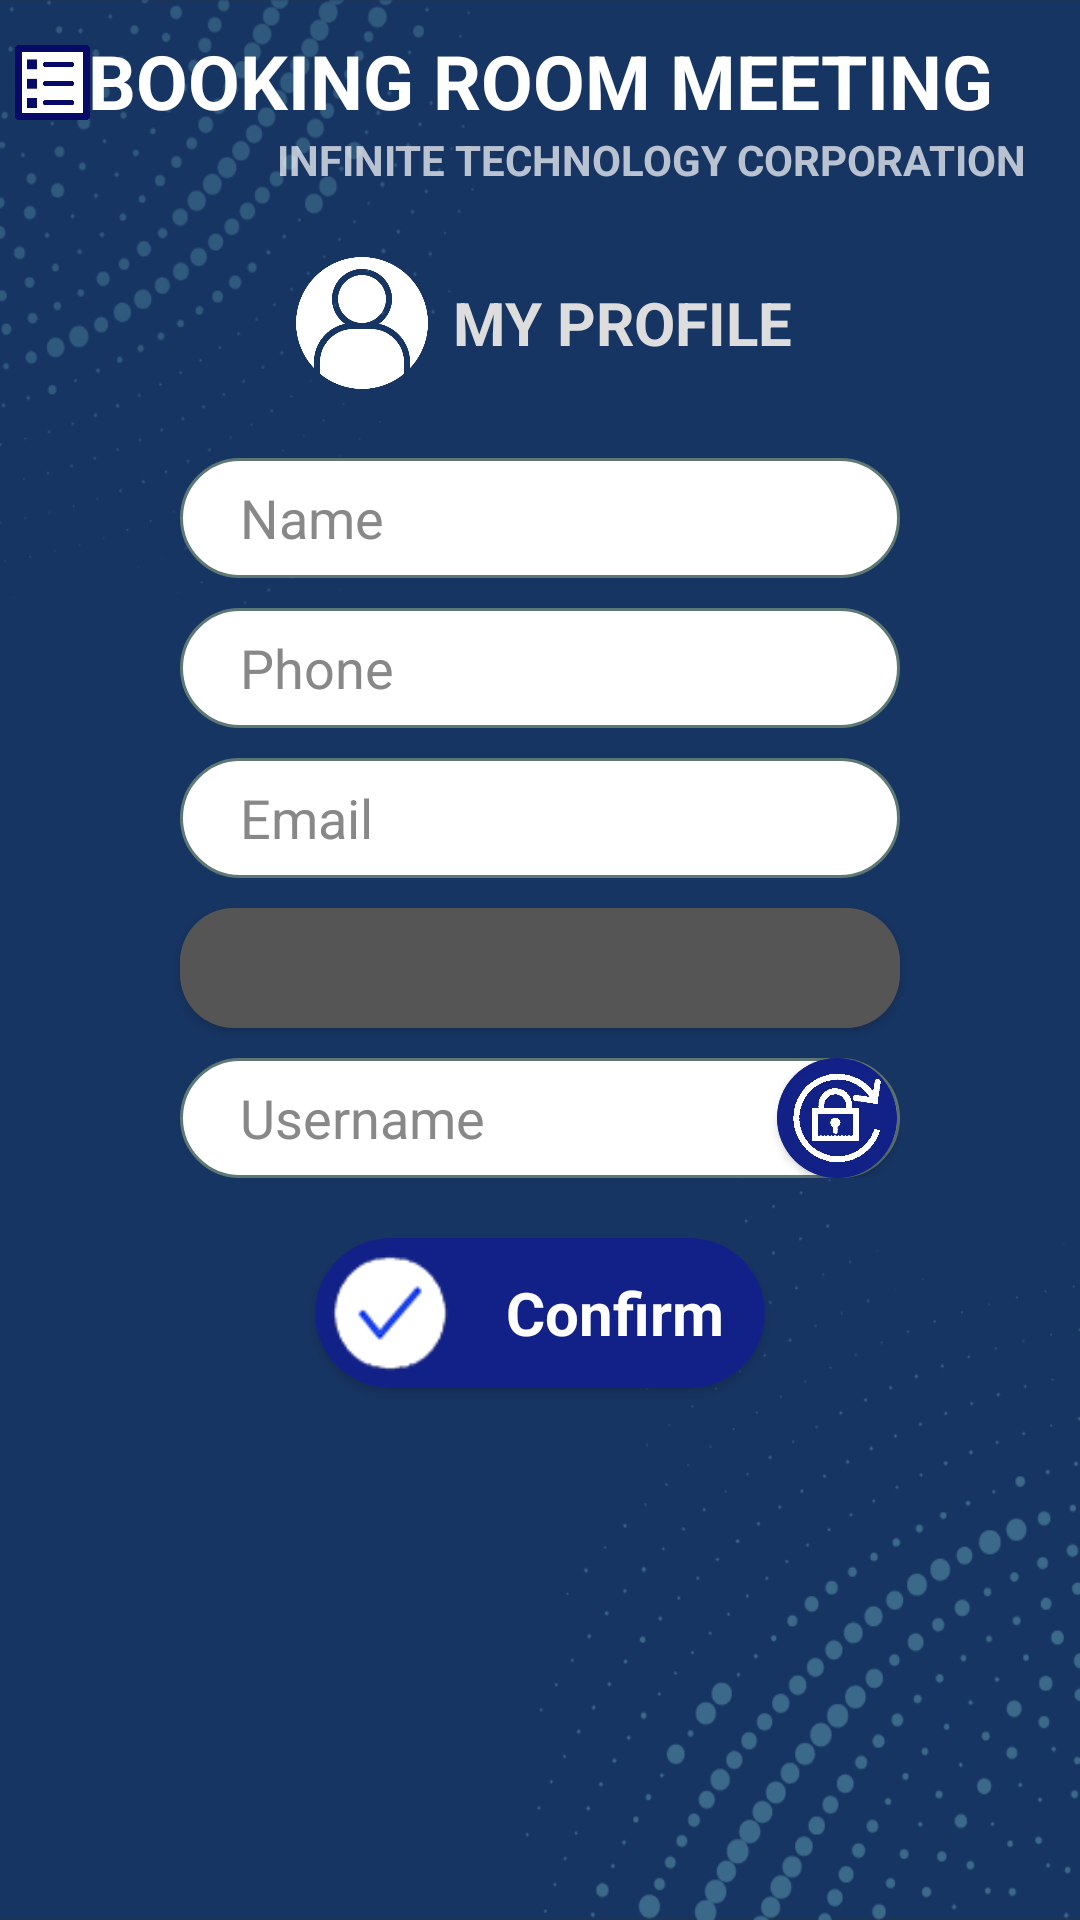

Named icons in this screenshot (1080x1920) and their bounding boxes, (x1, y1, x2, y2):
changepass: (793, 1074, 881, 1162)
detail: (15, 45, 90, 120)
profiless: (296, 249, 434, 389)
